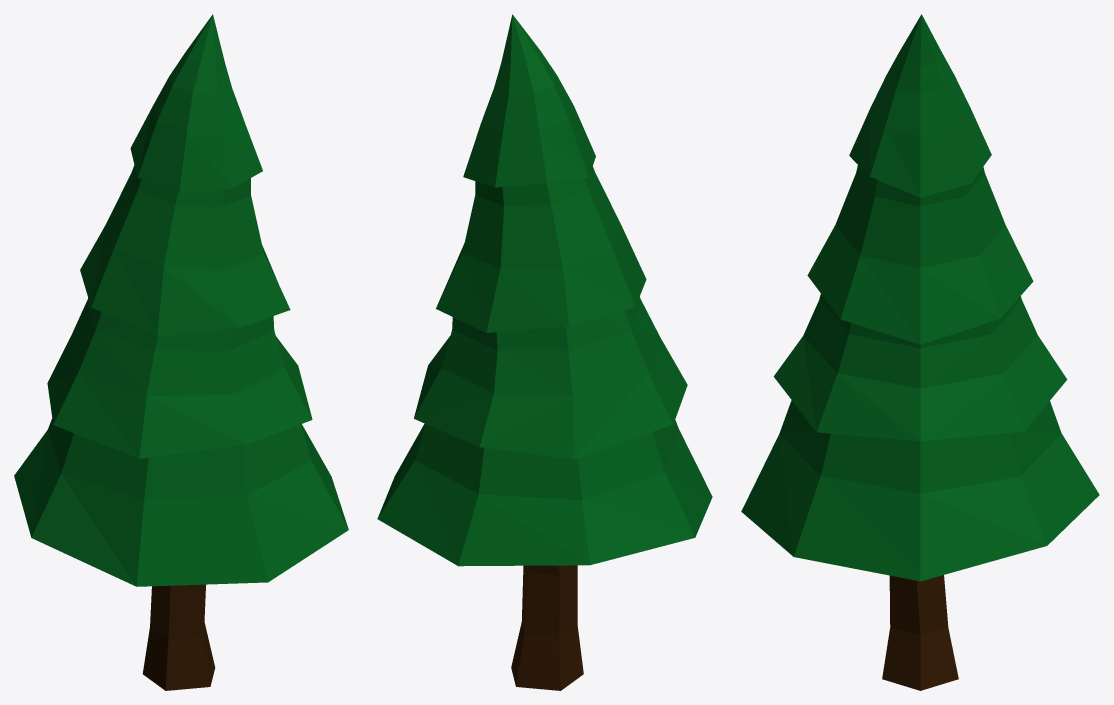
Rendered from PA_pinetree_3.FBX.
3 views of the same model, side by side, from view 1: azimuth 30°, elevation 25°; view 2: azimuth 150°, elevation 25°; view 3: azimuth 270°, elevation 25° (orthographic). The views are drawn at different scales.
Visible parts, largest first — view 1: Cylinder006, Cylinder005; view 2: Cylinder006, Cylinder005; view 3: Cylinder006, Cylinder005.
Boxes of the visible parts, x1,y1,x2,y2 form: Cylinder006: (14,14,348,586); Cylinder005: (142,584,215,690); Cylinder006: (377,14,712,566); Cylinder005: (511,565,583,690); Cylinder006: (741,14,1099,581); Cylinder005: (882,575,958,690).
Bounding box in the file's own units: 135 × 281 × 135.
